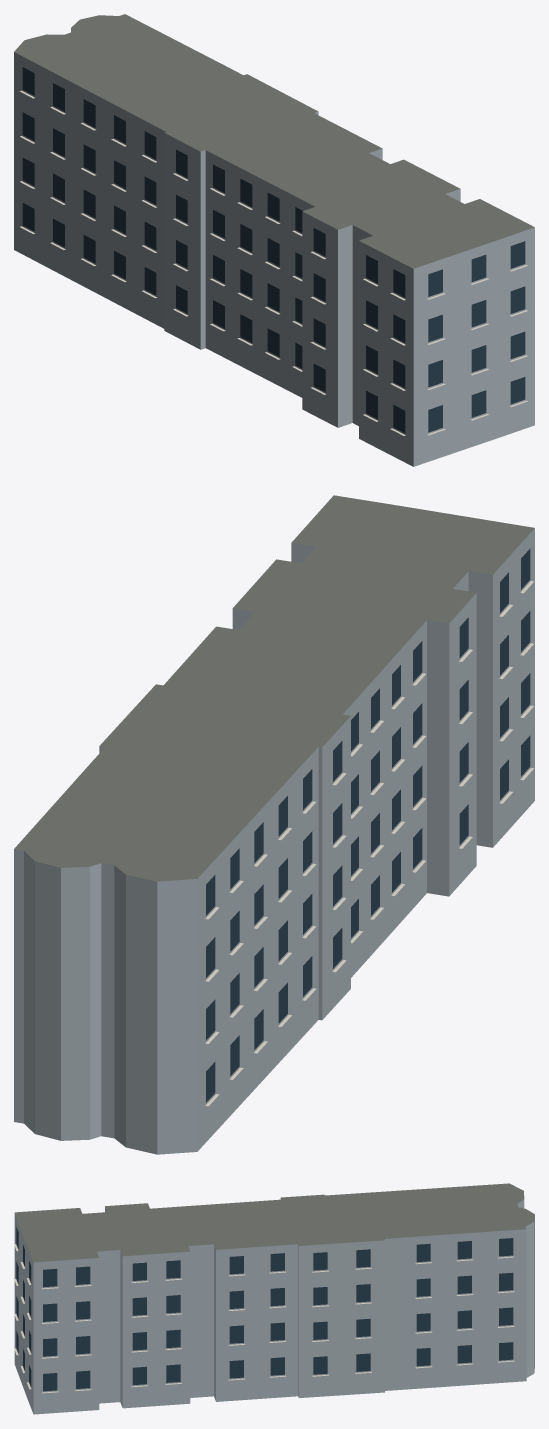
The picture shows the model from 3 angles, top to bottom: view 1: azimuth 30°, elevation 25°; view 2: azimuth 150°, elevation 25°; view 3: azimuth 270°, elevation 25°; orthographic projection. The views are drawn at different scales.
Parts seen in each view (by area): view 1: Footprint 0, Inferred window bays, Window sills; view 2: Footprint 0, Inferred window bays, Window sills; view 3: Footprint 0, Inferred window bays, Window sills.
Part boxes in pixels (x1=…): Footprint 0: x1=14, y1=14, x2=534, y2=466; Inferred window bays: x1=22, y1=67, x2=525, y2=433; Window sills: x1=20, y1=90, x2=527, y2=435; Footprint 0: x1=14, y1=495, x2=534, y2=1154; Inferred window bays: x1=206, y1=548, x2=530, y2=1102; Window sills: x1=205, y1=581, x2=533, y2=1106; Footprint 0: x1=14, y1=1183, x2=534, y2=1414; Inferred window bays: x1=16, y1=1227, x2=513, y2=1391; Window sills: x1=14, y1=1244, x2=514, y2=1393.
Bounding box in the file's own units: 16.2 × 14.34 × 44.51.
